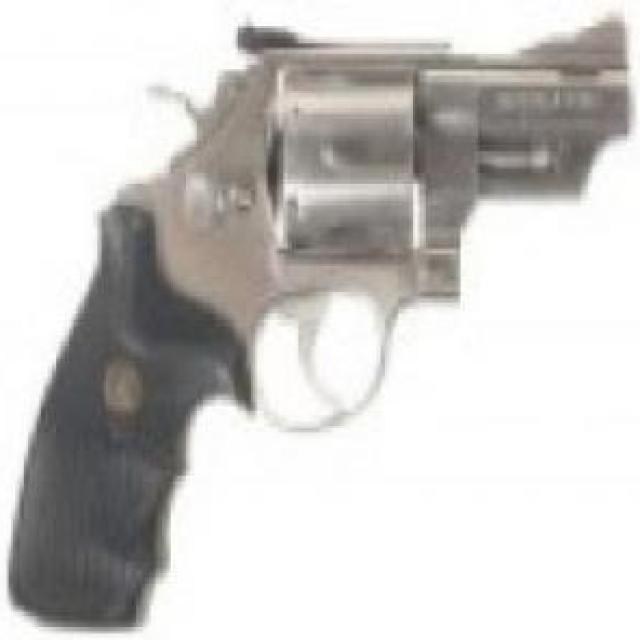pistol: (6, 7, 622, 628)
